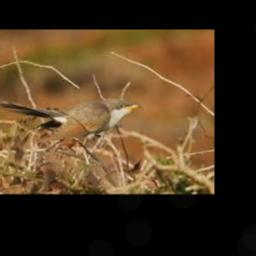Cuckoo: (0, 99, 143, 139)
